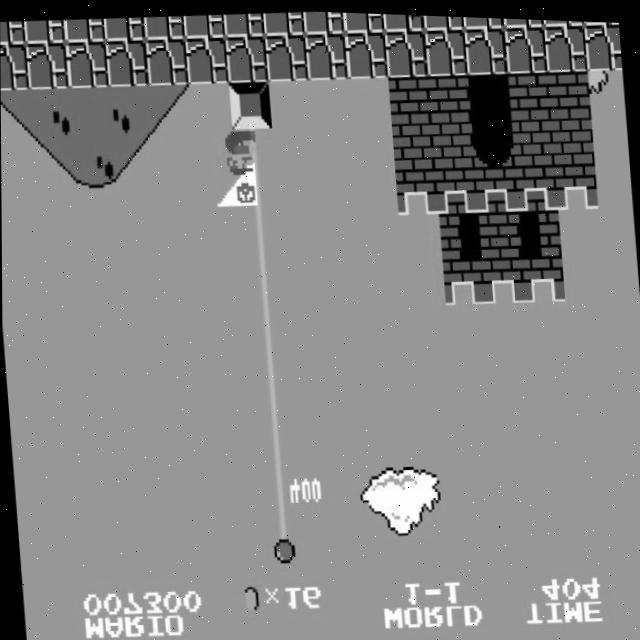1- brick_block: (507, 67, 551, 117)
11- little_mario: (212, 128, 258, 180)
17- undestructible_block: (65, 38, 109, 89), (464, 22, 508, 73), (25, 40, 69, 90), (105, 37, 149, 87), (144, 35, 188, 85), (184, 34, 228, 84), (224, 32, 268, 82), (264, 30, 308, 80), (304, 29, 348, 79), (344, 27, 388, 77), (384, 26, 428, 76), (424, 24, 468, 74), (504, 21, 548, 71), (543, 19, 587, 69), (584, 18, 622, 67), (0, 42, 29, 92), (103, 14, 146, 42), (182, 11, 225, 39), (222, 9, 265, 37), (23, 18, 66, 45), (63, 16, 106, 43), (143, 13, 186, 40), (262, 8, 305, 35), (302, 9, 345, 33), (342, 10, 385, 31), (381, 11, 424, 30), (421, 12, 464, 29), (0, 20, 25, 47), (461, 13, 504, 27), (501, 15, 544, 25), (541, 16, 584, 24)
7- goal_pole: (241, 261, 286, 311), (259, 489, 303, 540), (234, 170, 279, 219), (262, 535, 306, 585), (252, 398, 296, 448), (249, 352, 293, 402), (245, 307, 289, 357), (238, 215, 282, 265), (231, 124, 275, 174), (255, 444, 299, 493)
9- hard_block: (227, 78, 272, 128)
